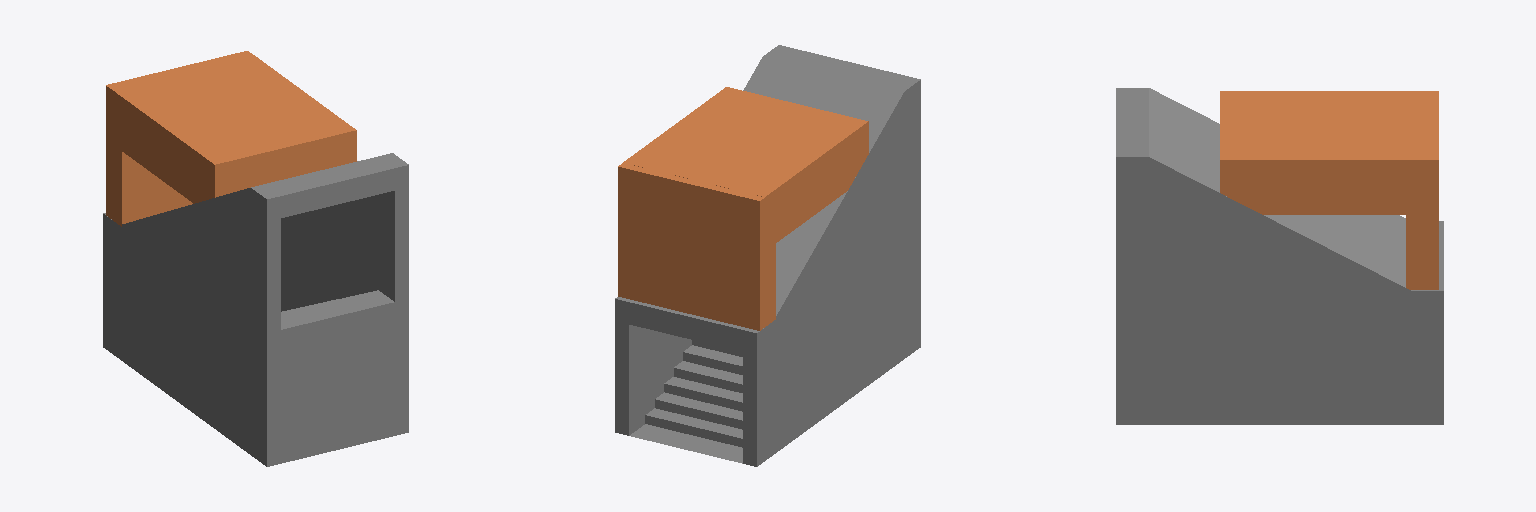
3 views of the same model, side by side, from view 1: azimuth 30°, elevation 25°; view 2: azimuth 150°, elevation 25°; view 3: azimuth 270°, elevation 25° (orthographic).
Visible parts, largest first — view 1: objobjRegroup03, Box002, Box001; view 2: objobjRegroup03, Box001, Box002; view 3: objobjRegroup03, Box002, Box001.
Boxes of the visible parts, <box> form: objobjRegroup03: <box>103,153,408,466</box>; Box002: <box>112,54,356,203</box>; Box001: <box>106,51,251,226</box>; objobjRegroup03: <box>615,45,920,466</box>; Box001: <box>618,163,775,330</box>; Box002: <box>623,87,868,242</box>; objobjRegroup03: <box>1116,88,1443,424</box>; Box002: <box>1220,91,1427,214</box>; Box001: <box>1406,91,1438,289</box>.
Bounding box in the file's own units: 10.01 × 18 × 20.